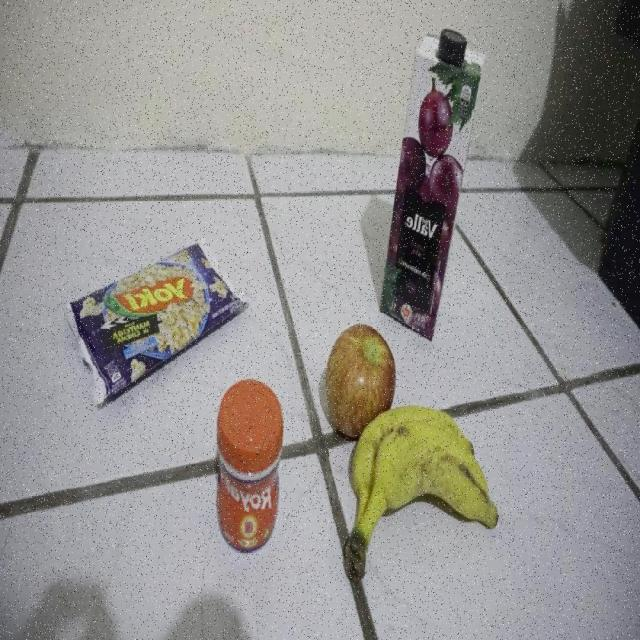Apple: (325, 322, 395, 437)
Banana: (344, 405, 497, 579)
Popcorn: (64, 236, 250, 405)
Yeast: (216, 380, 283, 554)
